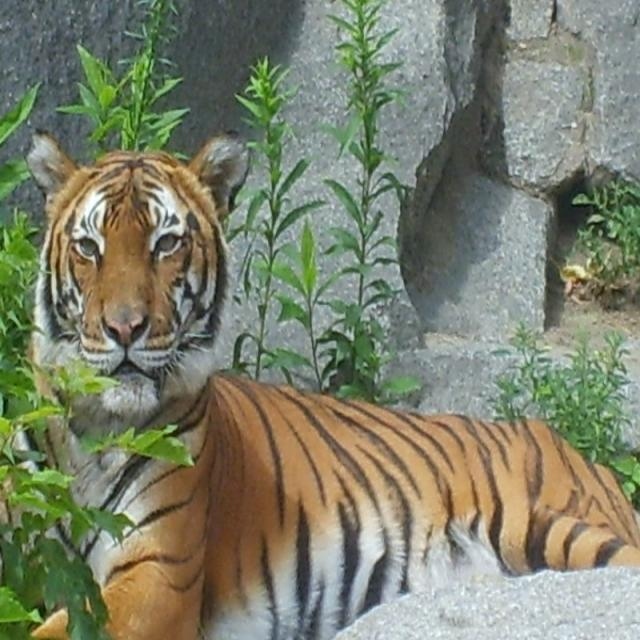Tiger: (15, 125, 640, 637)
